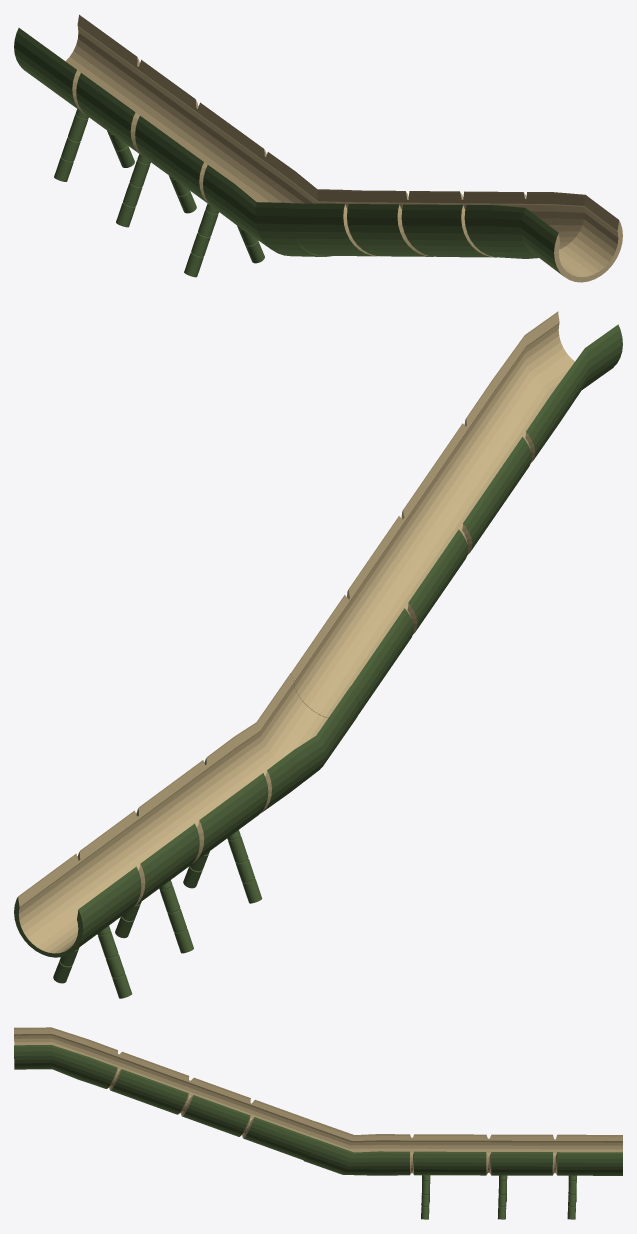
File: Récolte sève 1.fbx
The picture shows the model from 3 angles, top to bottom: view 1: azimuth 30°, elevation 25°; view 2: azimuth 150°, elevation 25°; view 3: azimuth 270°, elevation 25°; orthographic projection. The views are drawn at different scales.
Parts seen in each view (by area): view 1: Cylindre.013, Cylindre.011, Cylindre.015, Cylindre.016, Cylindre.019, Cylindre.017, Cylindre.014, Cylindre.018; view 2: Cylindre.011, Cylindre.013, Cylindre.015, Cylindre.016, Cylindre.019; view 3: Cylindre.013, Cylindre.011, Cylindre.014, Cylindre.018, Cylindre.017.
Boxes of the visible parts, x1,y1,x2,y2 form: Cylindre.013: (14,14,352,256); Cylindre.011: (289,190,622,282); Cylindre.015: (184,203,218,277); Cylindre.016: (116,154,150,227); Cylindre.019: (54,109,88,181); Cylindre.017: (168,175,196,213); Cylindre.014: (237,226,264,263); Cylindre.018: (107,130,134,167); Cylindre.011: (290,311,622,717); Cylindre.013: (14,673,359,957); Cylindre.015: (227,830,262,903); Cylindre.016: (159,880,193,953); Cylindre.019: (97,926,132,998); Cylindre.013: (303,1121,622,1175); Cylindre.011: (14,1027,315,1160); Cylindre.014: (421,1175,430,1219); Cylindre.018: (567,1175,576,1219); Cylindre.017: (497,1175,507,1219).
Size of the model in its own units: 806 by 3077 by 9678.
